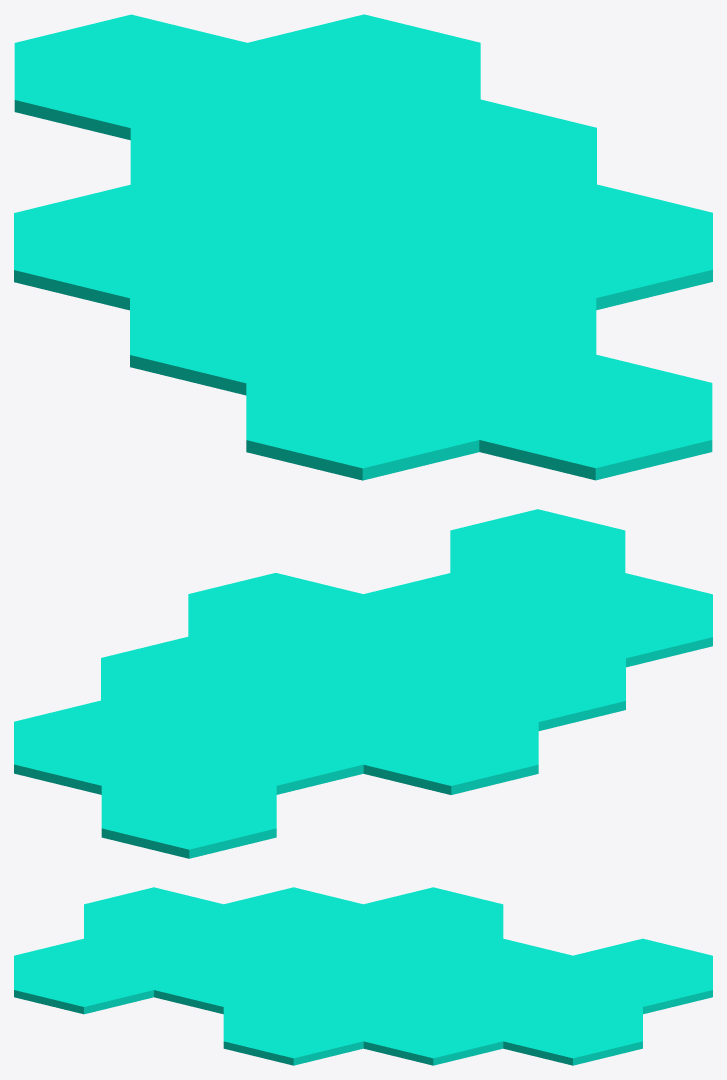
File: GrasslandsMacroPallet.fbx
3 renders of one model, top to bottom at view 1: azimuth 30°, elevation 25°; view 2: azimuth 150°, elevation 25°; view 3: azimuth 270°, elevation 25°, orthographic. The views are drawn at different scales.
Visible parts, largest first — view 1: pCylinder1_9, pCylinder1_10, pCylinder1_5, pCylinder1_1, pCylinder1_7, pCylinder1_6, pCylinder1_8, pCylinder1_3, pCylinder1_2, pCylinder1_4, pCylinder1; view 2: pCylinder1_5, pCylinder1_6, pCylinder1_7, pCylinder1_4, pCylinder1_10, pCylinder1_3, pCylinder1_1, pCylinder1_9, pCylinder1_8, pCylinder1, pCylinder1_2; view 3: pCylinder1_1, pCylinder1_2, pCylinder1_9, pCylinder1_4, pCylinder1_8, pCylinder1_5, pCylinder1, pCylinder1_6, pCylinder1_7, pCylinder1_3, pCylinder1_10.
Boxes of the visible parts, bbox=[...] form: pCylinder1_9: bbox=[479, 354, 712, 480]; pCylinder1_10: bbox=[246, 354, 479, 480]; pCylinder1_5: bbox=[14, 14, 247, 140]; pCylinder1_1: bbox=[480, 184, 712, 310]; pCylinder1_7: bbox=[130, 269, 363, 395]; pCylinder1_6: bbox=[14, 184, 246, 310]; pCylinder1_8: bbox=[363, 269, 596, 383]; pCylinder1_3: bbox=[130, 99, 363, 213]; pCylinder1_2: bbox=[363, 99, 596, 212]; pCylinder1_4: bbox=[247, 14, 480, 127]; pCylinder1: bbox=[247, 184, 479, 297]; pCylinder1_5: bbox=[101, 764, 276, 858]; pCylinder1_6: bbox=[363, 701, 538, 794]; pCylinder1_7: bbox=[450, 637, 625, 730]; pCylinder1_4: bbox=[14, 700, 188, 794]; pCylinder1_10: bbox=[538, 573, 712, 667]; pCylinder1_3: bbox=[189, 700, 363, 794]; pCylinder1_1: bbox=[188, 573, 363, 657]; pCylinder1_9: bbox=[450, 509, 625, 594]; pCylinder1_8: bbox=[363, 573, 537, 658]; pCylinder1: bbox=[276, 636, 450, 721]; pCylinder1_2: bbox=[101, 637, 276, 721]; pCylinder1_1: bbox=[223, 990, 363, 1065]; pCylinder1_2: bbox=[363, 990, 503, 1065]; pCylinder1_9: bbox=[14, 938, 154, 1014]; pCylinder1_4: bbox=[503, 990, 642, 1065]; pCylinder1_8: bbox=[153, 938, 293, 1014]; pCylinder1_5: bbox=[572, 938, 712, 1014]; pCylinder1: bbox=[293, 938, 433, 1006]; pCylinder1_6: bbox=[363, 887, 503, 955]; pCylinder1_7: bbox=[223, 887, 363, 955]; pCylinder1_3: bbox=[433, 938, 573, 1006]; pCylinder1_10: bbox=[84, 887, 223, 955].
Size of the model in its own units: 5000 by 100 by 8632.
